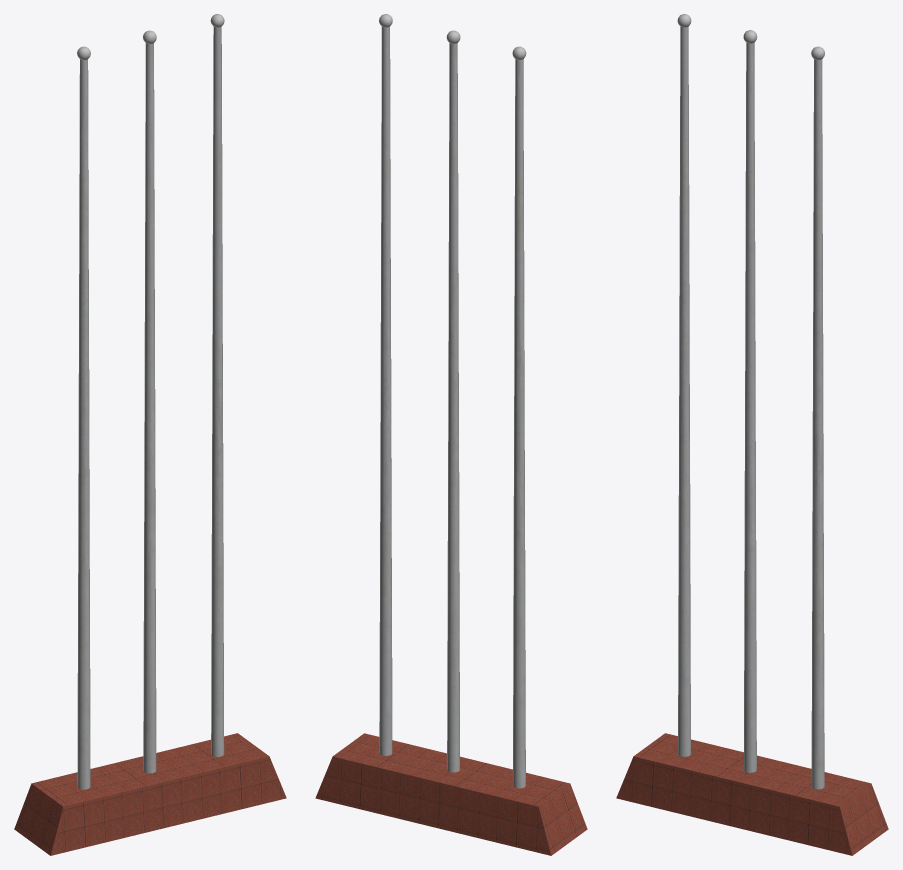
File: flagplatform.fbx
3 views of the same model, side by side, from view 1: azimuth 30°, elevation 25°; view 2: azimuth 150°, elevation 25°; view 3: azimuth 330°, elevation 25° (orthographic).
Visible parts, largest first — view 1: flagPlatform; view 2: flagPlatform; view 3: flagPlatform.
Part boxes in pixels (bbox=[...]): flagPlatform: bbox=[14, 14, 286, 855]; flagPlatform: bbox=[315, 14, 587, 855]; flagPlatform: bbox=[616, 14, 888, 855].
Size of the model in its own units: 450 by 1426 by 120.
